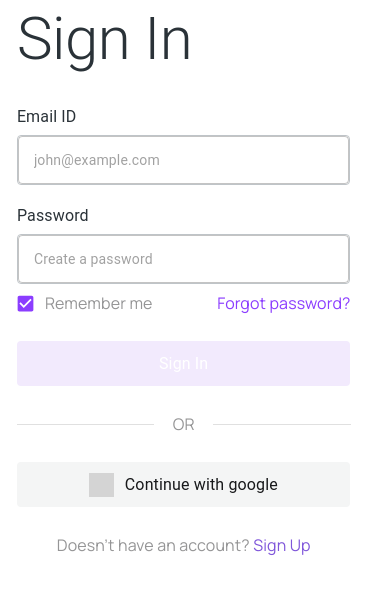
it: Signin component testcases › Entering email field incorrectly
Step 1. Type "saicharan@gmail" into the field with placeholder "john@example.com" → (184, 160), box top-left (18, 136), bottom-right (350, 184)
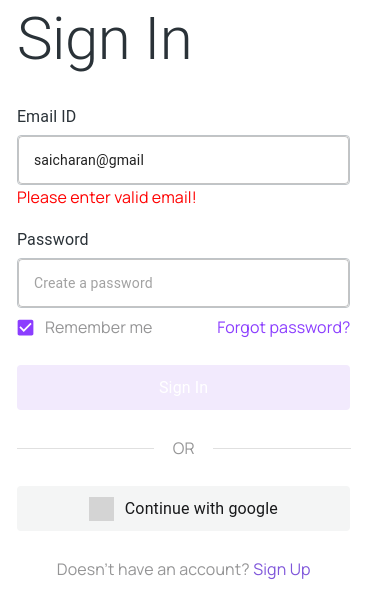
Expected: the text "Please enter valid email!" is shown, top-left (17, 186), bottom-right (197, 208)
